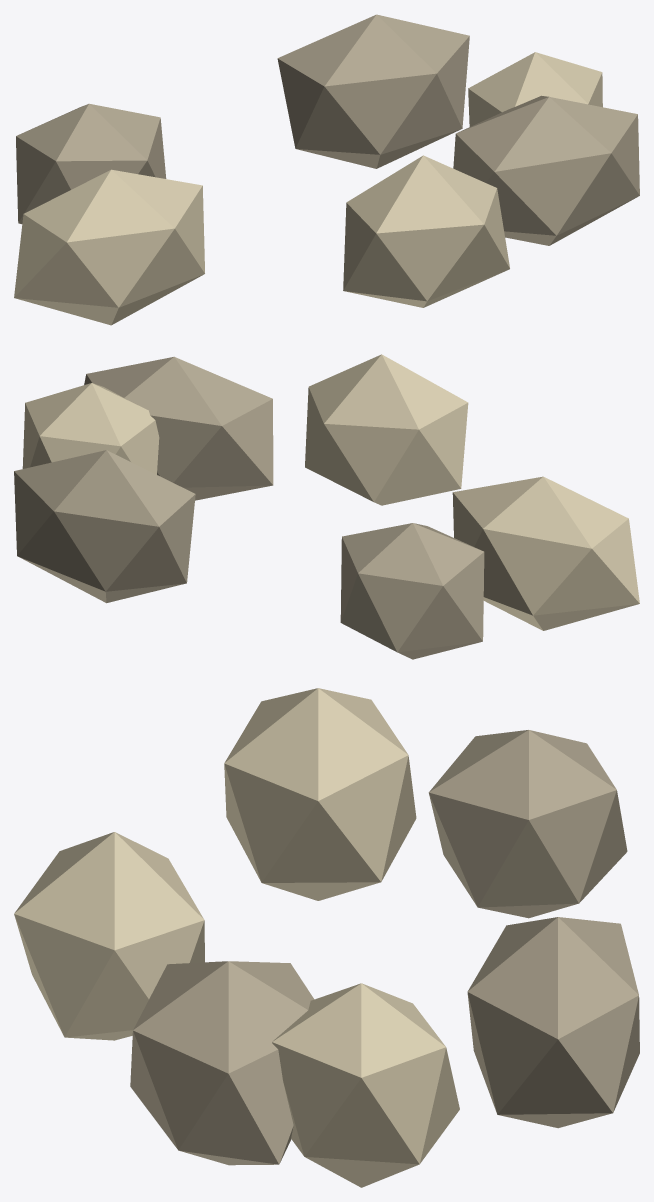
File: SM_RUI_NAT_007_Rubble.glb
The picture shows the model from 3 angles, top to bottom: view 1: azimuth 30°, elevation 25°; view 2: azimuth 150°, elevation 25°; view 3: azimuth 270°, elevation 25°; orthographic projection. The views are drawn at different scales.
Visible parts, largest first — view 1: SM_RUI_NAT_007_Rubble; view 2: SM_RUI_NAT_007_Rubble; view 3: SM_RUI_NAT_007_Rubble.
Part boxes in pixels (x1,y1,x2,y2): SM_RUI_NAT_007_Rubble: [14, 14, 639, 325]; SM_RUI_NAT_007_Rubble: [14, 354, 639, 659]; SM_RUI_NAT_007_Rubble: [14, 688, 639, 1187].
Size of the model in its own units: 1.31 by 0.345 by 0.859.
